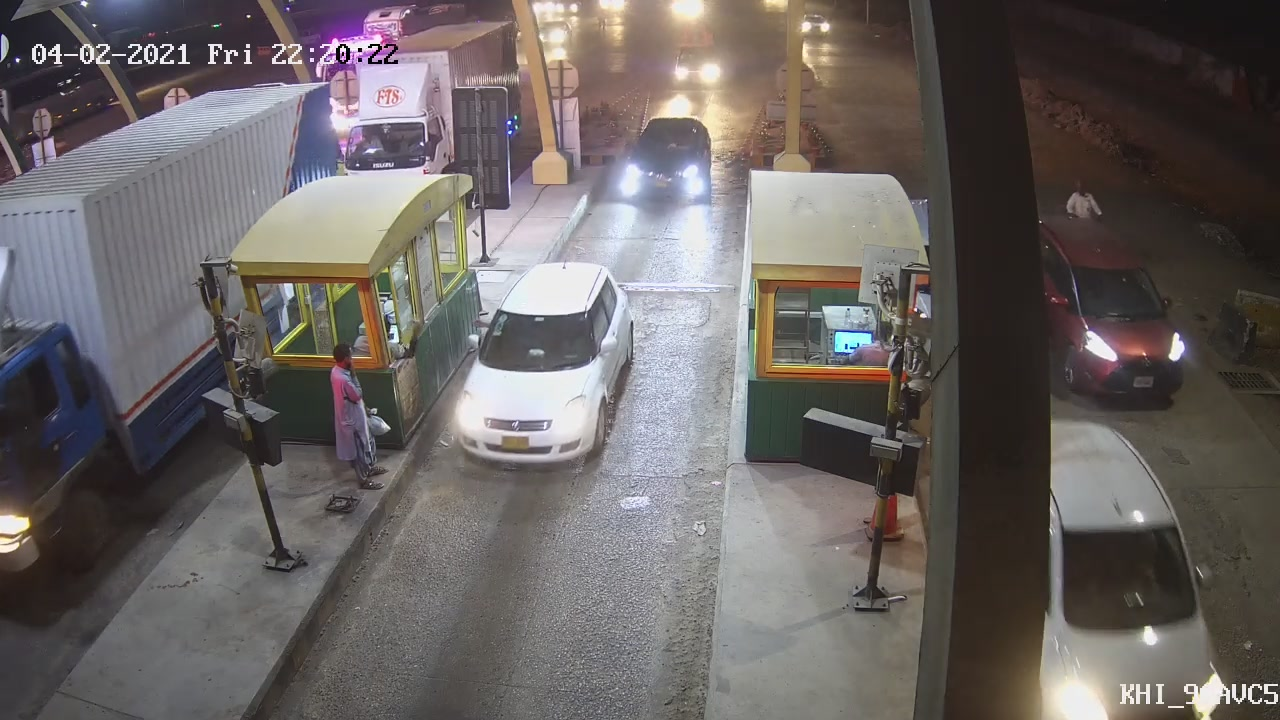F1: (450, 262, 636, 473), (615, 118, 717, 202)
